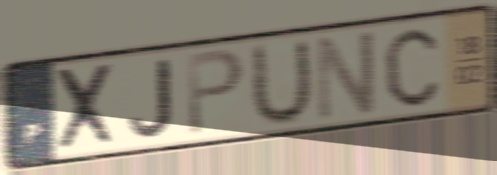C: (381, 25, 442, 110)
J: (126, 56, 177, 142)
N: (314, 26, 378, 126)
P: (184, 45, 248, 141)
U: (248, 34, 316, 131)
X: (51, 60, 121, 156)
